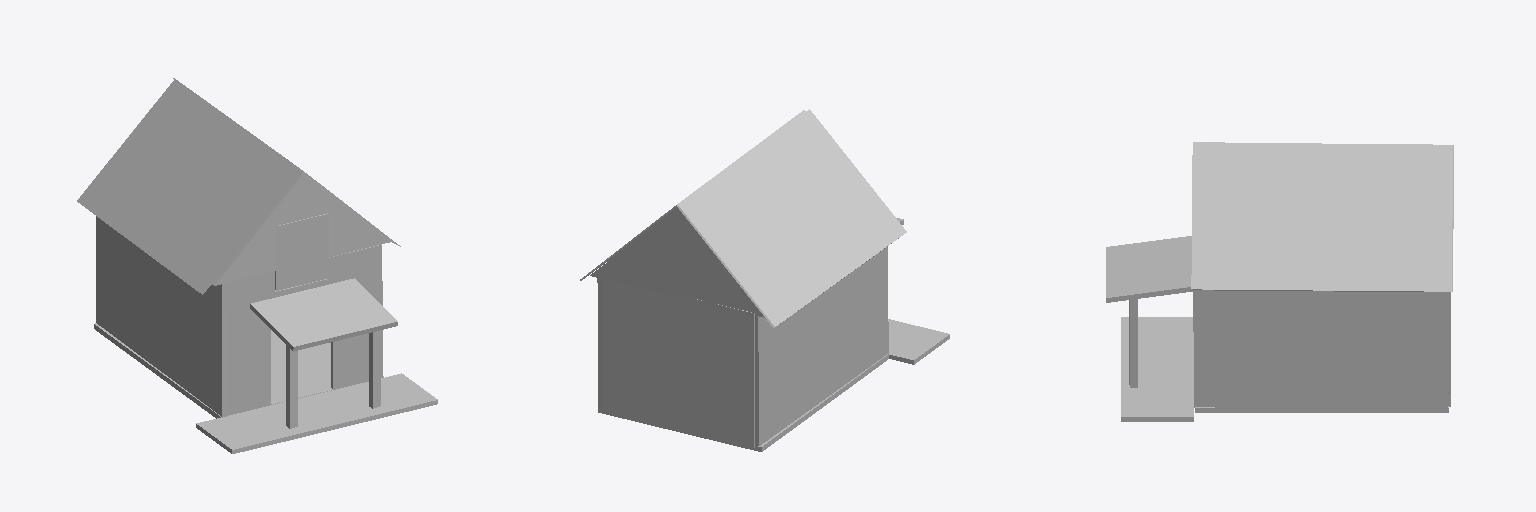
Rendered from Fachada.obj.
3 views of the same model, side by side, from view 1: azimuth 30°, elevation 25°; view 2: azimuth 150°, elevation 25°; view 3: azimuth 270°, elevation 25° (orthographic).
Visible parts, largest first — view 1: pCube18; view 2: pCube18; view 3: pCube18.
Part boxes in pixels (x1,y1,x2,y2): pCube18: (77, 78, 437, 453); pCube18: (580, 109, 949, 451); pCube18: (1106, 142, 1453, 421).
Size of the model in its own units: 12.36 by 13.27 by 18.11.